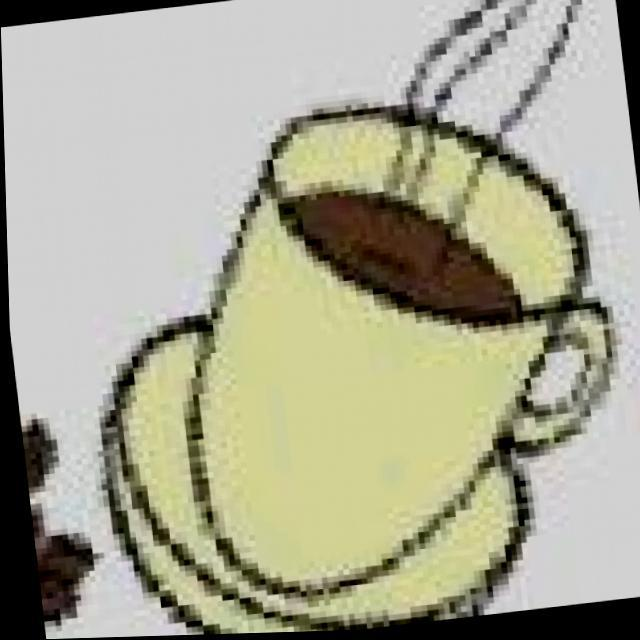cup: (185, 53, 640, 636)
